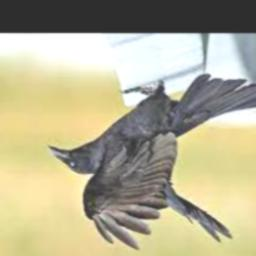Crow: (47, 74, 256, 250)
